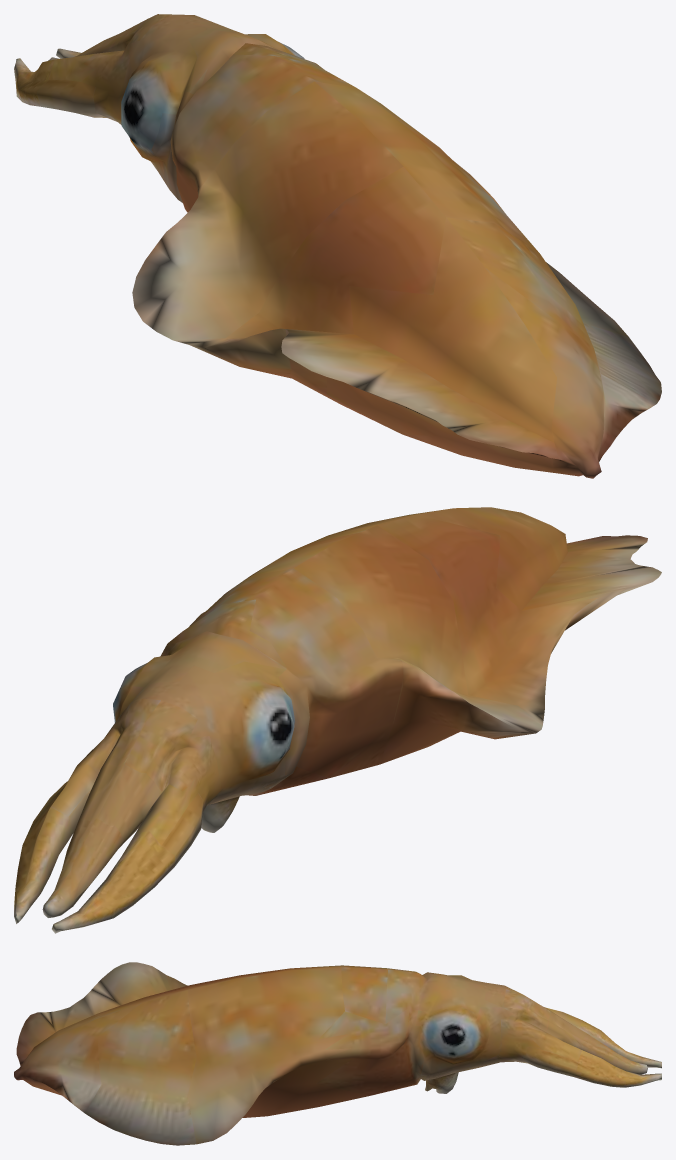
The model's file is inktvis.glb.
The picture shows the model from 3 angles, top to bottom: view 1: azimuth 30°, elevation 25°; view 2: azimuth 150°, elevation 25°; view 3: azimuth 270°, elevation 25°; orthographic projection. The views are drawn at different scales.
Parts seen in each view (by area): view 1: tripo_node_186918b8-325c-41fd-bbc5-bb0828e59ac6; view 2: tripo_node_186918b8-325c-41fd-bbc5-bb0828e59ac6; view 3: tripo_node_186918b8-325c-41fd-bbc5-bb0828e59ac6.
Boxes of the visible parts, left/top/right/bottom form: tripo_node_186918b8-325c-41fd-bbc5-bb0828e59ac6: left=14, top=14, right=661, bottom=478; tripo_node_186918b8-325c-41fd-bbc5-bb0828e59ac6: left=14, top=507, right=661, bottom=933; tripo_node_186918b8-325c-41fd-bbc5-bb0828e59ac6: left=14, top=962, right=661, bottom=1145.
Bounding box in the file's own units: 0.2622 × 0.15 × 0.6232.
Materials: 1 (1 with a texture image).
